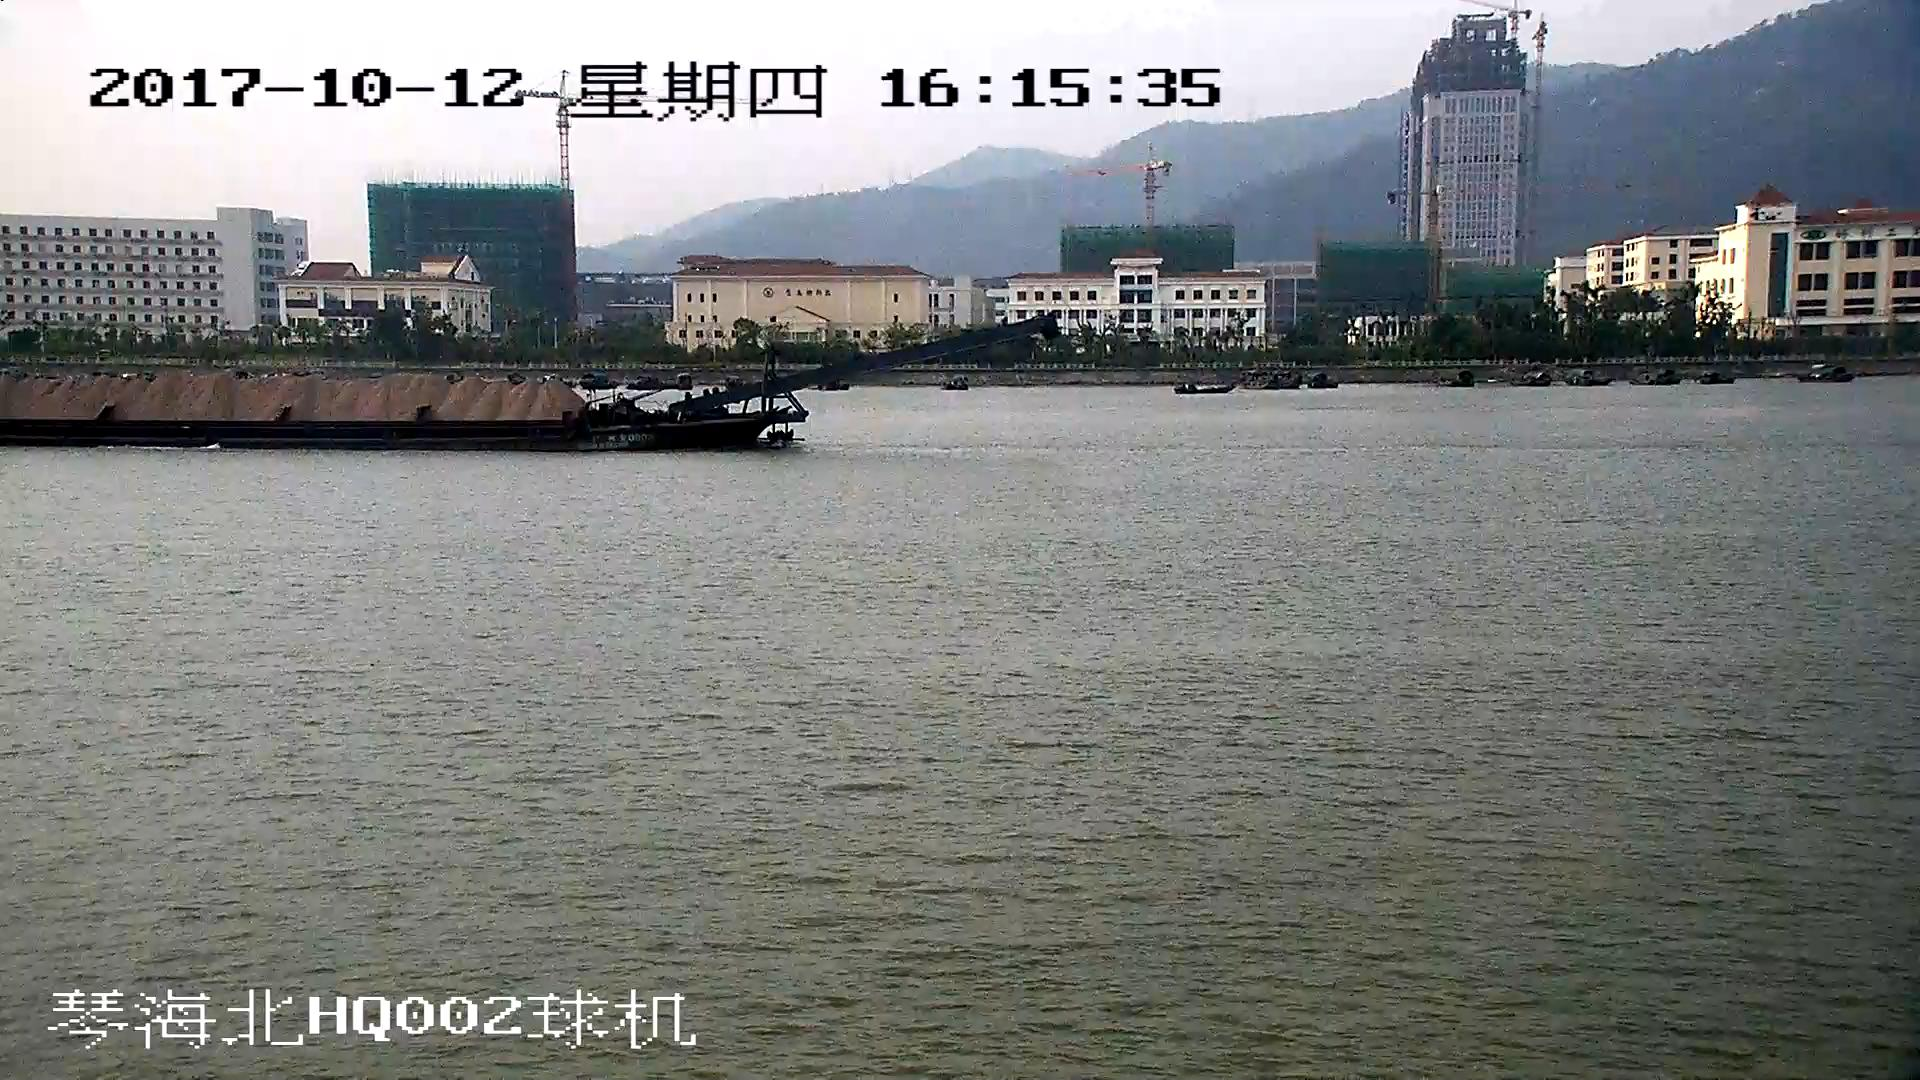ore carrier: (1, 316, 1053, 450)
